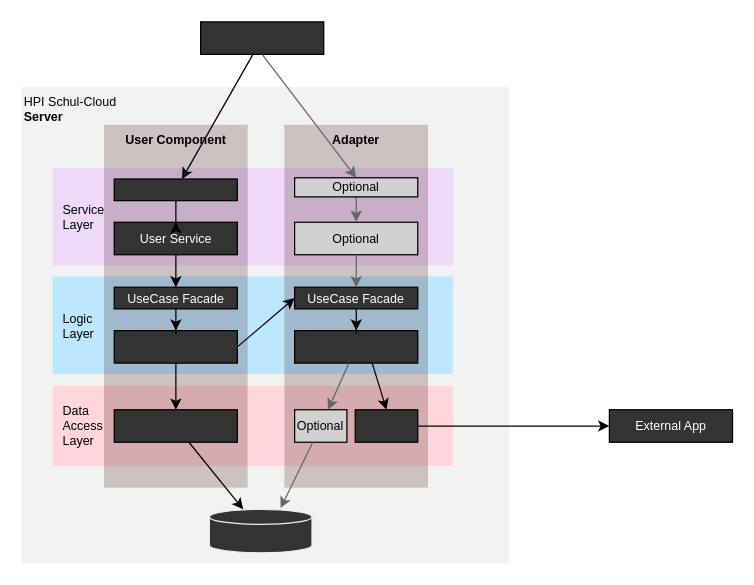
Some shapes in this 754 by 585 pixel diagram are drawn without their labels. Here are the shapes that lost their labels. From the top down, the centre of each, then its label:
the point at 261,37: HPI Clients
the point at 175,189: User Rest API
the point at 175,346: User UserCase(s)
the point at 355,346: Adapter UserCase(s)
the point at 175,425: User Repository & User Entities
the point at 386,425: Client
the point at 260,530: Database
